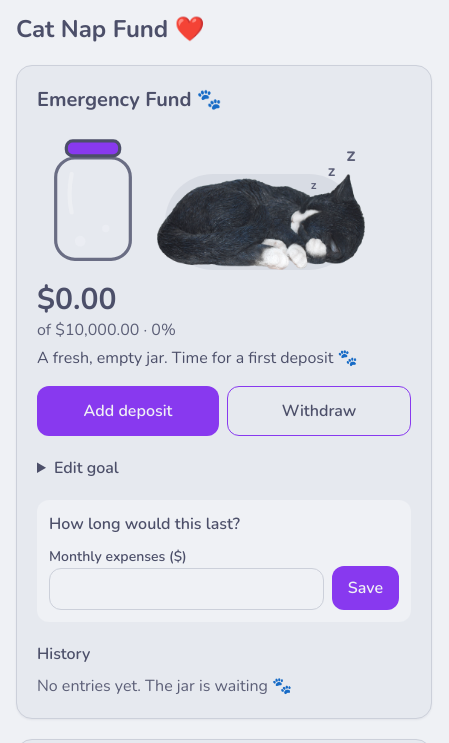
Test: dashboard › emergency helper shows how many months are covered
Click the button "Add deposit" at (128, 411), box [37, 386, 219, 436]
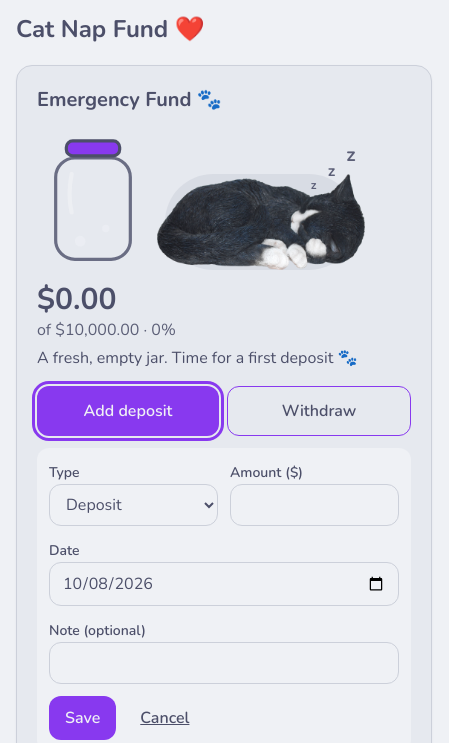
Type "9000" into the field labelled "Amount ($)" at (314, 505), box [230, 484, 399, 526]
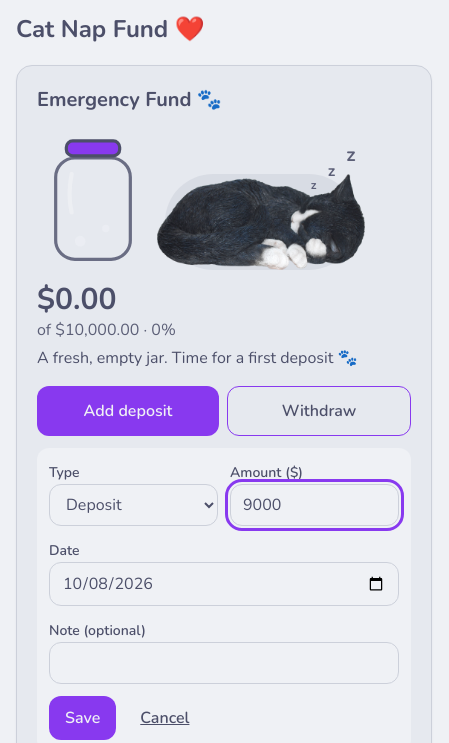
Click the button "Save" at (83, 718), box [49, 696, 116, 740]
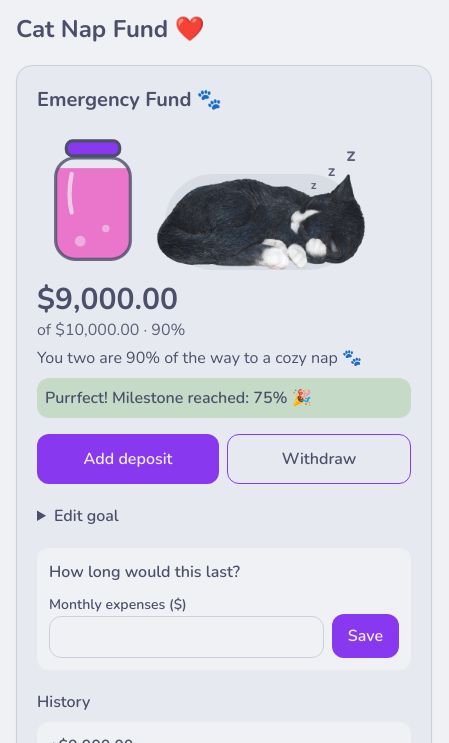
Type "3000" into the field labelled "Monthly expenses ($)" at (186, 637), box [49, 616, 324, 658]
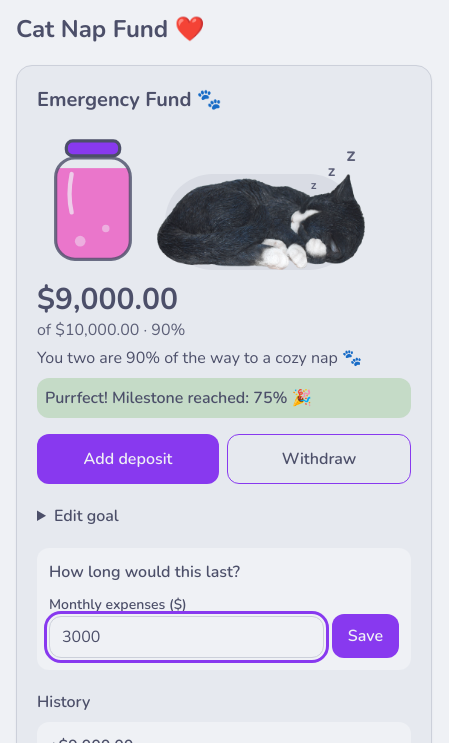
Click the button "Save" at (365, 636), box [332, 614, 399, 658]
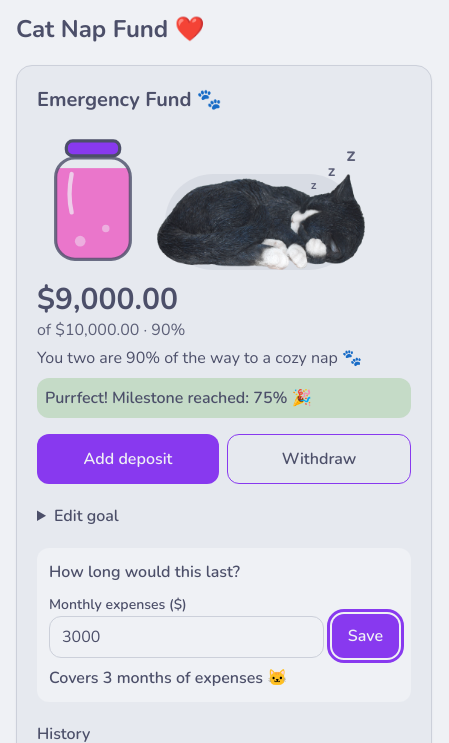
Expected: the text with test id "covers" shows "Covers 3 months", [49, 667, 287, 689]
